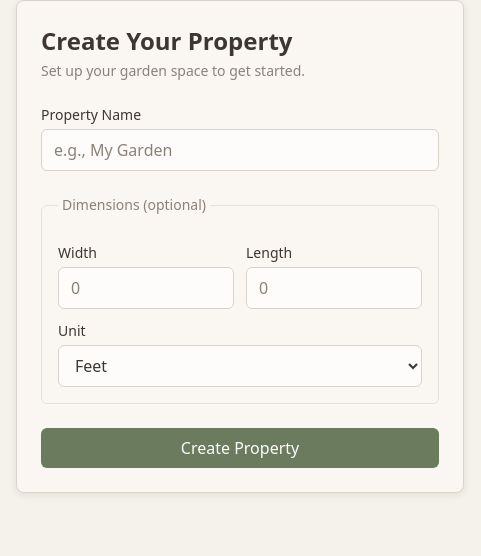
Test case: Story 1.3: PropertyCreationForm › shows validation error when submitting with empty name (AC#1, FR1)
The image size is (481, 556).
Click the button "Create Property". click: click(240, 448)
box: [41, 428, 439, 468]
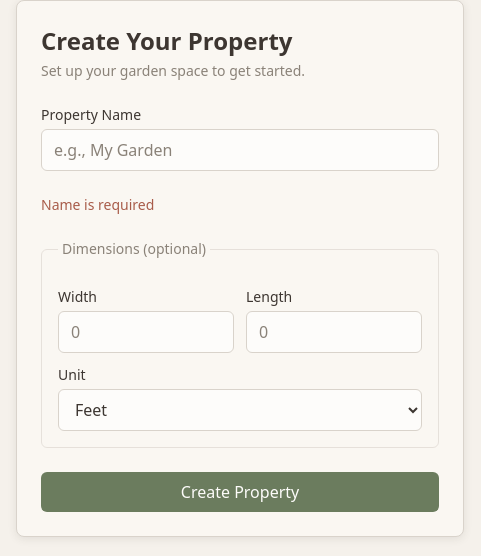
Check: the text "Name is required" is shown, box [41, 195, 154, 214]
